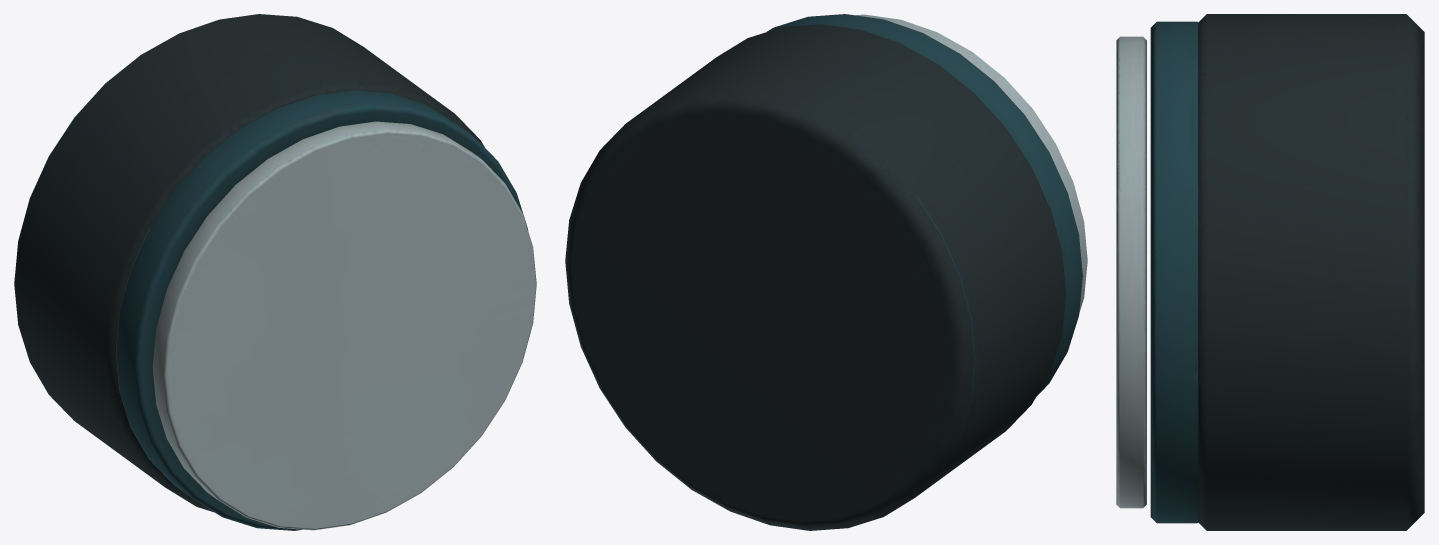
Rendered from lidar.obj.
3 renders of one model, left to right at view 1: azimuth 30°, elevation 25°; view 2: azimuth 150°, elevation 25°; view 3: azimuth 270°, elevation 25°, orthographic. The views are drawn at different scales.
Parts seen in each view (by area): view 1: lidar; view 2: lidar; view 3: lidar.
Part boxes in pixels (x1,y1,x2,y2): lidar: (14, 14, 536, 530); lidar: (565, 14, 1087, 530); lidar: (1116, 14, 1424, 530).
Size of the model in its own units: 0.068 by 0.068 by 0.0405.
1 material, 1 textured.
